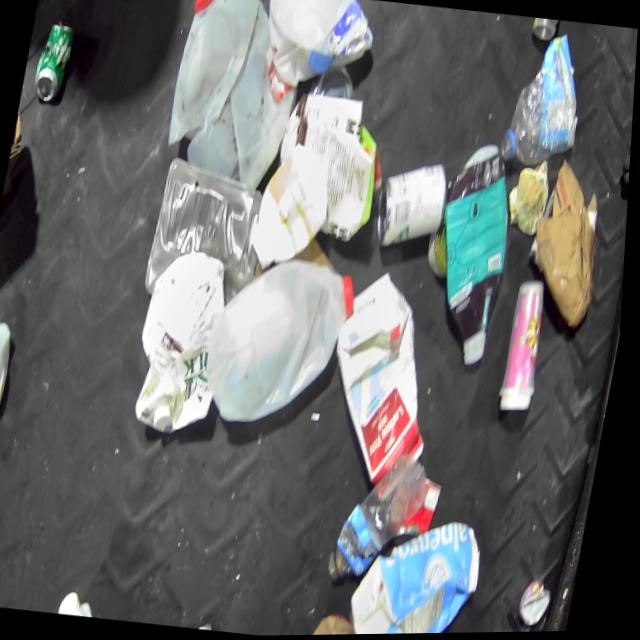can: (372, 156, 452, 253), (30, 16, 77, 104), (398, 474, 448, 549), (308, 62, 361, 101), (521, 577, 560, 628), (191, 619, 225, 631)
milk_jug: (199, 250, 364, 435), (159, 0, 313, 189), (129, 246, 239, 437), (253, 0, 381, 95), (0, 317, 19, 486)
non_white_jug: (316, 266, 459, 497), (424, 139, 527, 367), (350, 508, 494, 636)
plastic_bottle: (331, 447, 437, 591), (498, 30, 591, 170)
